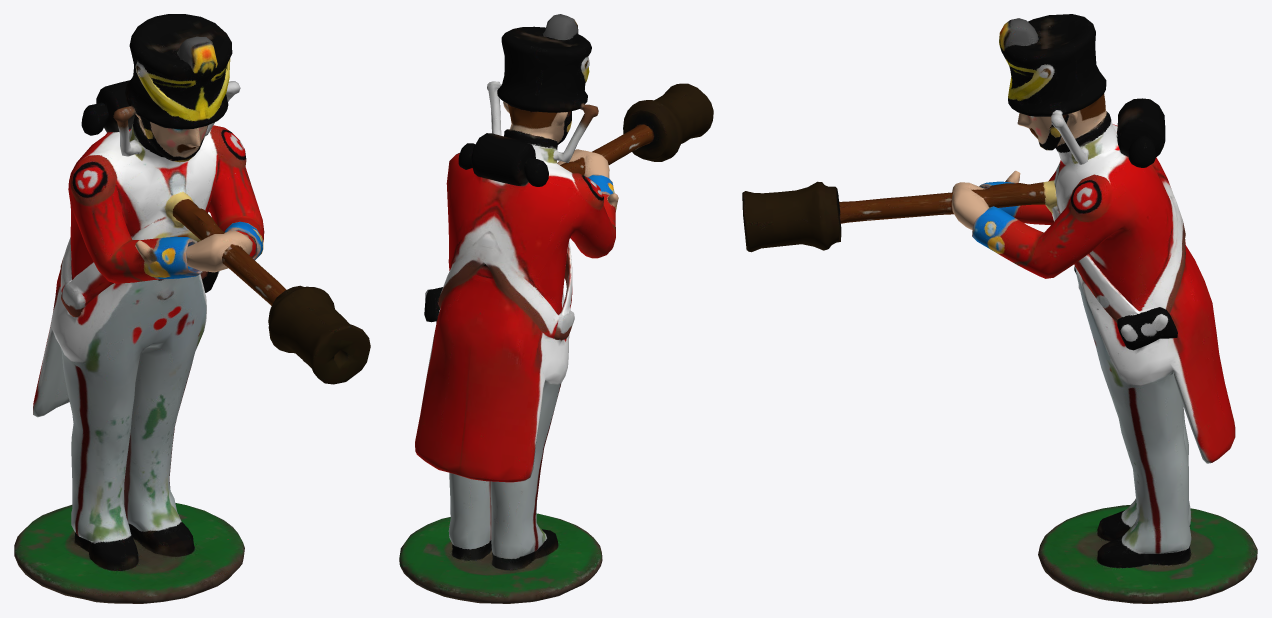
File: gunner_ram.glb
3 renders of one model, left to right at view 1: azimuth 30°, elevation 25°; view 2: azimuth 150°, elevation 25°; view 3: azimuth 270°, elevation 25°, orthographic. The views are drawn at different scales.
Parts seen in each view (by area): view 1: world; view 2: world; view 3: world.
Part boxes in pixels (x1=…): world: x1=14, y1=14, x2=370, y2=603; world: x1=399, y1=14, x2=713, y2=603; world: x1=742, y1=14, x2=1257, y2=603.
Size of the model in its own units: 0.3671 by 1 by 0.8666.
Materials: 1 (1 with a texture image).
